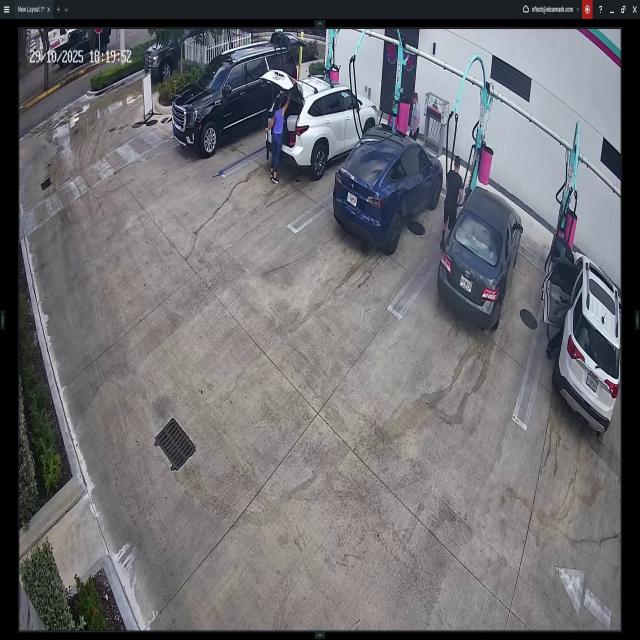Car: (551, 235, 620, 435), (170, 45, 298, 151), (337, 124, 443, 250), (262, 65, 378, 173), (440, 186, 523, 331), (146, 33, 207, 81)
